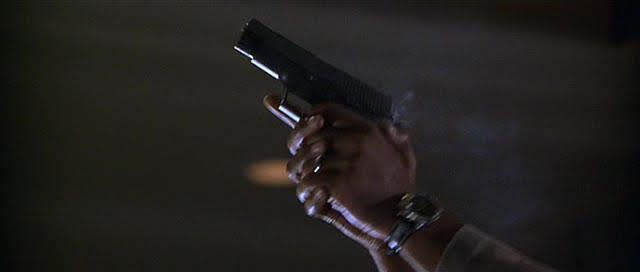gun: (212, 6, 407, 198)
